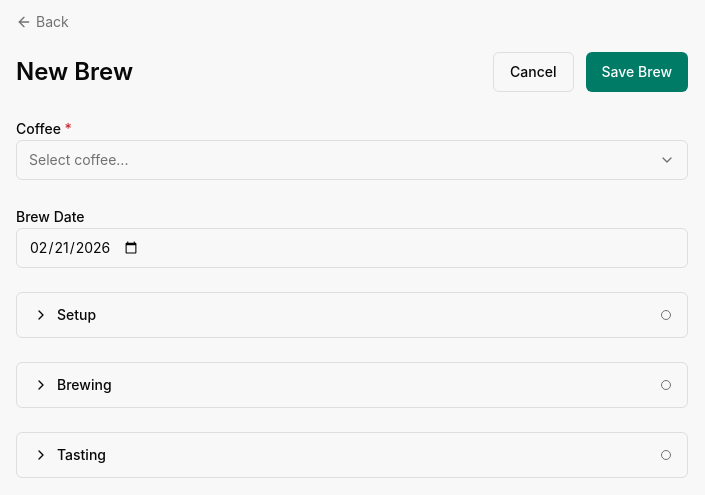
BrewFormPage › shows coffee selector dropdown with non-archived coffees
The image size is (705, 495).
expect the heading "New Brew" is shown: met, box [16, 56, 133, 88]
Click the coffee selector button
Click the button "Select coffee...".
click(79, 160)  # box [16, 140, 688, 180]
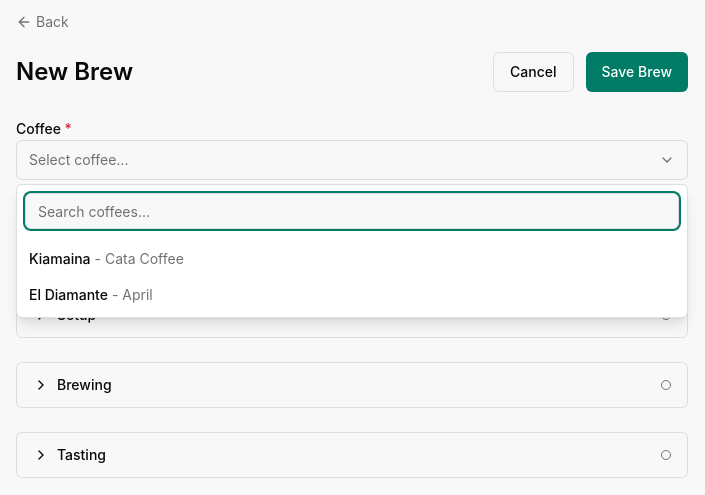
expect the text "Kiamaina" is shown: met, box [29, 250, 91, 267]
expect the text "El Diamante" is shown: met, box [29, 286, 108, 303]
